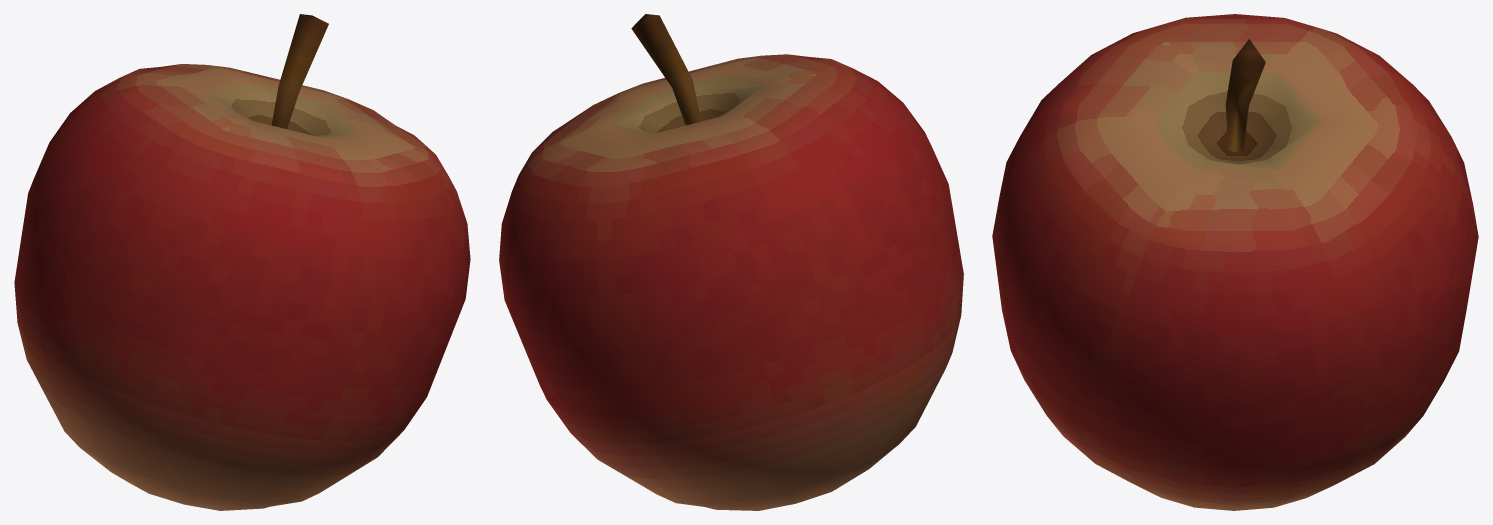
Rendered from apple.glb.
The picture shows the model from 3 angles, left to right: view 1: azimuth 30°, elevation 25°; view 2: azimuth 150°, elevation 25°; view 3: azimuth 270°, elevation 25°; orthographic projection. The views are drawn at different scales.
Visible parts, largest first — view 1: model; view 2: model; view 3: model.
Boxes of the visible parts, x1,y1,x2,y2 form: model: (14, 14, 470, 510); model: (499, 14, 963, 510); model: (992, 14, 1478, 510).
Bounding box in the file's own units: 6.57 × 7.2 × 6.51.
Materials: 1 (1 with a texture image).
